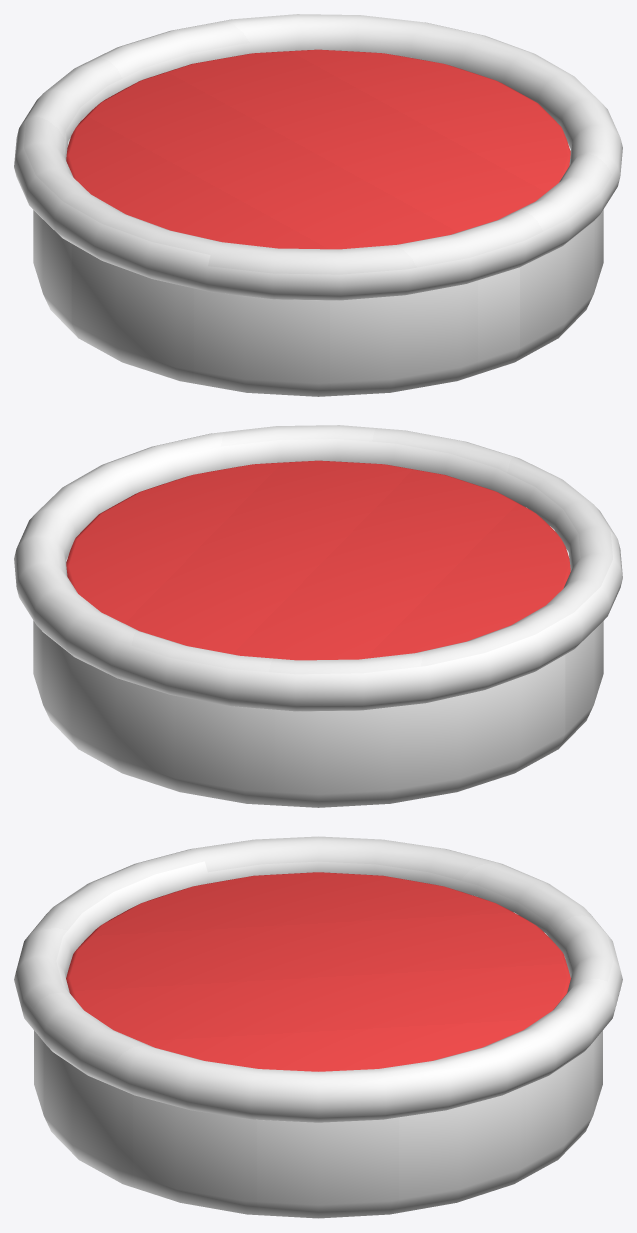
Rendered from bowl-soup.glb.
3 renders of one model, top to bottom at view 1: azimuth 30°, elevation 25°; view 2: azimuth 150°, elevation 25°; view 3: azimuth 270°, elevation 25°, orthographic.
Parts seen in each view (by area): view 1: StewBrothSurface, StewBowlRim, StewBowlBody; view 2: StewBrothSurface, StewBowlRim, StewBowlBody; view 3: StewBrothSurface, StewBowlRim, StewBowlBody.
Boxes of the visible parts, x1=… form: StewBrothSurface: x1=66, y1=49, x2=570, y2=249; StewBowlRim: x1=14, y1=14, x2=622, y2=300; StewBowlBody: x1=33, y1=96, x2=603, y2=396; StewBrothSurface: x1=66, y1=460, x2=570, y2=660; StewBowlRim: x1=14, y1=425, x2=622, y2=711; StewBowlBody: x1=33, y1=507, x2=603, y2=807; StewBrothSurface: x1=66, y1=872, x2=570, y2=1071; StewBowlRim: x1=14, y1=836, x2=622, y2=1122; StewBowlBody: x1=34, y1=912, x2=602, y2=1218.
Bounding box in the file's own units: 0.514 × 0.1614 × 0.514.
2 materials, 2 textured.
